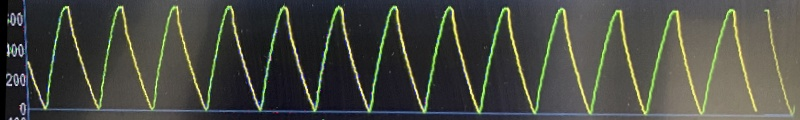normal_volume: (43, 1, 758, 117)
